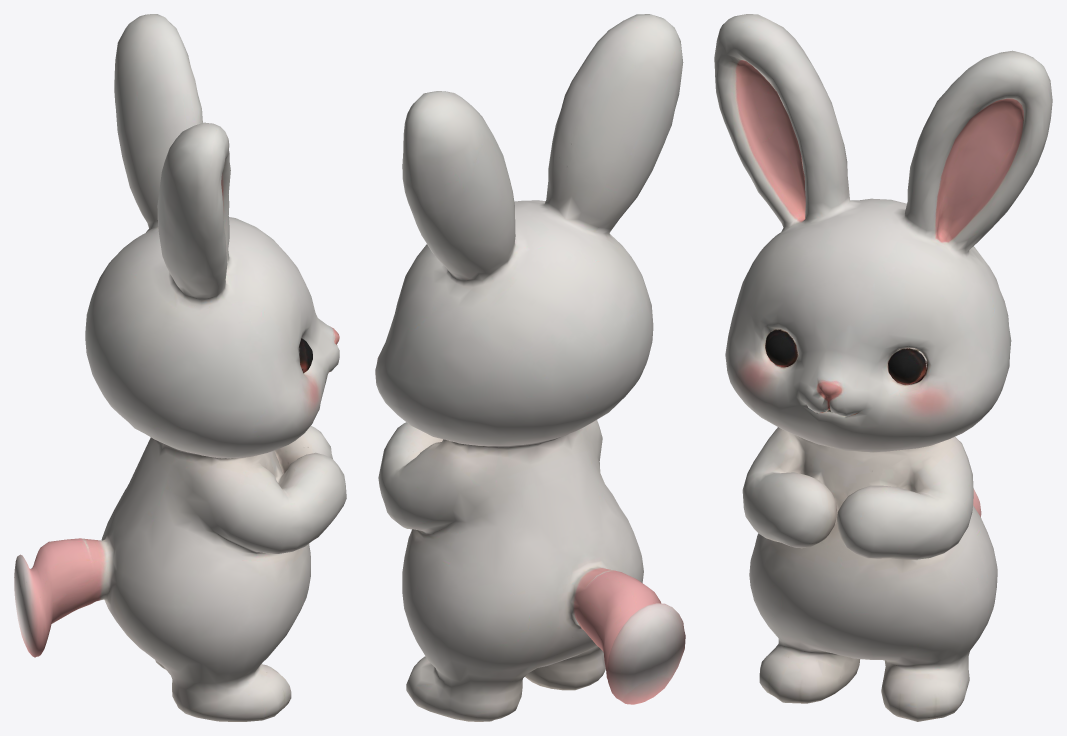
File: bunny_blank.glb
3 renders of one model, left to right at view 1: azimuth 30°, elevation 25°; view 2: azimuth 150°, elevation 25°; view 3: azimuth 270°, elevation 25°, orthographic. The views are drawn at different scales.
Visible parts, largest first — view 1: tripo_node_f809955a-8ab0-4106-a8b8-13f583a6f706; view 2: tripo_node_f809955a-8ab0-4106-a8b8-13f583a6f706; view 3: tripo_node_f809955a-8ab0-4106-a8b8-13f583a6f706.
Boxes of the visible parts, <box> form: tripo_node_f809955a-8ab0-4106-a8b8-13f583a6f706: <box>14,14,346,721</box>; tripo_node_f809955a-8ab0-4106-a8b8-13f583a6f706: <box>375,14,685,721</box>; tripo_node_f809955a-8ab0-4106-a8b8-13f583a6f706: <box>714,14,1052,721</box>.
Bounding box in the file's own units: 0.4899 × 0.998 × 0.4793.
Materials: 1 (1 with a texture image).
